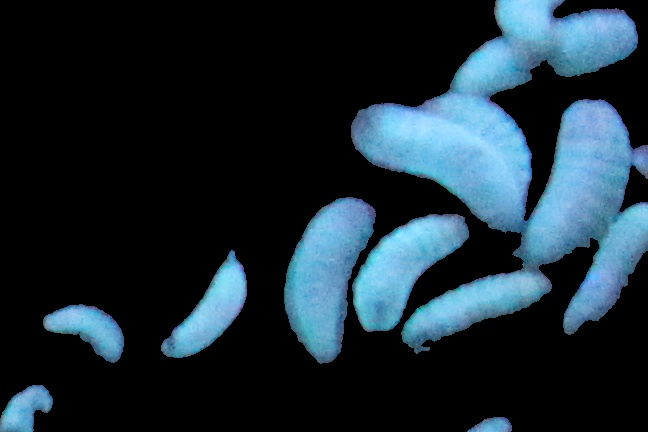larvae: (353, 103, 522, 236), (522, 100, 628, 264), (283, 190, 374, 364), (450, 14, 639, 96), (350, 213, 465, 330), (399, 272, 551, 358), (421, 94, 532, 204), (566, 204, 648, 336), (162, 249, 246, 362), (39, 295, 125, 374), (494, 1, 563, 51)
